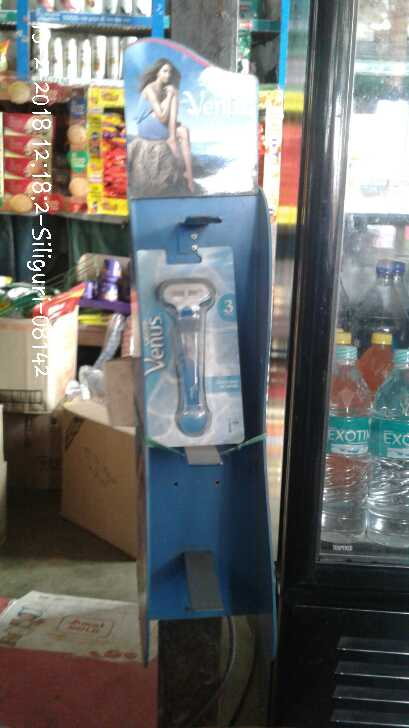venus: (136, 244, 248, 445)
